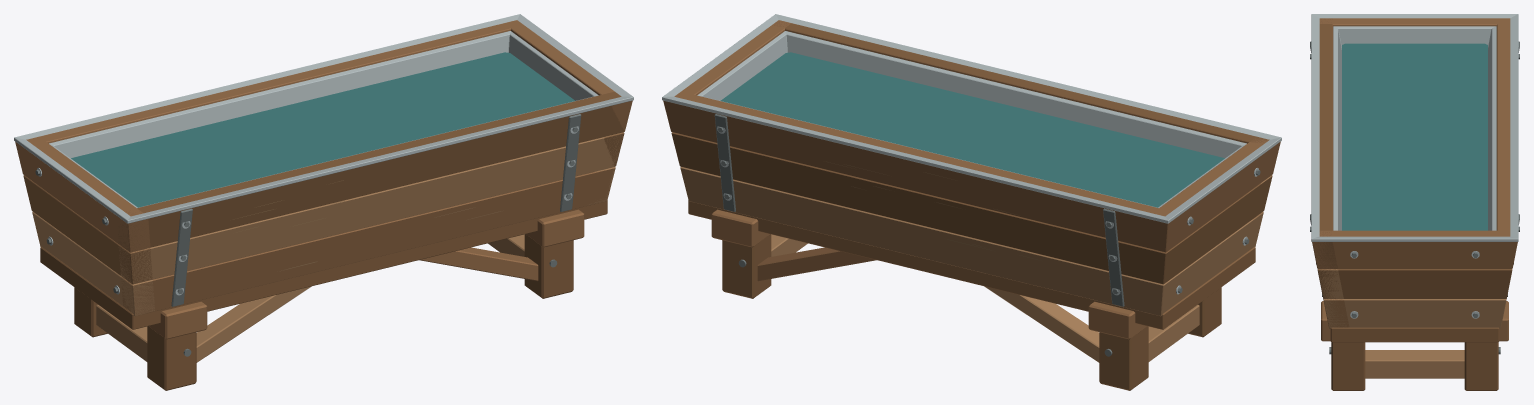
3 views of the same model, side by side, from view 1: azimuth 30°, elevation 25°; view 2: azimuth 150°, elevation 25°; view 3: azimuth 270°, elevation 25° (orthographic). The views are drawn at different scales.
Visible parts, largest first — view 1: Water full to empty, Folded galvanized liner and protective lip, Long side timber course.004, Long side timber course.002, Long side timber course, Solid timber basin bottom, Long side timber course.005, Fitted end timber course.004, Fitted end timber course.002, Fitted end timber course, Square timber leg, Diagonal long frame brace (+10 smaller); view 2: Water full to empty, Folded galvanized liner and protective lip, Long side timber course.005, Long side timber course.003, Long side timber course.001, Solid timber basin bottom, Fitted end timber course.004, Long side timber course.004, Fitted end timber course.002, Fitted end timber course, Square timber leg.001, Diagonal long frame brace.002 (+11 smaller); view 3: Water full to empty, Folded galvanized liner and protective lip, Fitted end timber course.005, Fitted end timber course.003, Fitted end timber course.001, Long side timber course.004, Long side timber course.005, Lower cross rail.001, Solid timber basin bottom, Square timber leg.002, Square timber leg.003, Fitted end timber course.004 (+5 smaller).
Boxes of the visible parts, <box> form: Water full to empty: <box>71,52,575,207</box>; Folded galvanized liner and protective lip: <box>14,14,633,223</box>; Long side timber course.004: <box>118,91,632,251</box>; Long side timber course.002: <box>118,132,623,283</box>; Long side timber course: <box>121,167,615,315</box>; Solid timber basin bottom: <box>40,200,607,329</box>; Long side timber course.005: <box>15,21,521,181</box>; Fitted end timber course.004: <box>15,137,150,252</box>; Fitted end timber course.002: <box>23,175,152,284</box>; Fitted end timber course: <box>32,212,154,316</box>; Square timber leg: <box>147,326,196,390</box>; Diagonal long frame brace: <box>196,286,311,362</box>; Water full to empty: <box>720,52,1224,207</box>; Folded galvanized liner and protective lip: <box>662,14,1281,223</box>; Long side timber course.005: <box>663,91,1179,251</box>; Long side timber course.003: <box>672,132,1177,284</box>; Long side timber course.001: <box>681,167,1174,315</box>; Solid timber basin bottom: <box>688,200,1255,329</box>; Fitted end timber course.004: <box>1145,138,1280,252</box>; Long side timber course.004: <box>772,20,1273,169</box>; Fitted end timber course.002: <box>1144,175,1272,284</box>; Fitted end timber course: <box>1141,212,1263,316</box>; Square timber leg.001: <box>1099,326,1148,390</box>; Diagonal long frame brace.002: <box>984,286,1099,362</box>; Water full to empty: <box>1342,43,1487,230</box>; Folded galvanized liner and protective lip: <box>1311,14,1518,241</box>; Fitted end timber course.005: <box>1312,230,1517,268</box>; Fitted end timber course.003: <box>1317,269,1512,298</box>; Fitted end timber course.001: <box>1323,299,1506,328</box>; Long side timber course.004: <box>1313,18,1337,268</box>; Long side timber course.005: <box>1492,18,1516,268</box>; Lower cross rail.001: <box>1365,350,1464,378</box>; Solid timber basin bottom: <box>1330,327,1499,342</box>; Square timber leg.002: <box>1331,342,1365,390</box>; Square timber leg.003: <box>1464,342,1498,390</box>; Fitted end timber course.004: <box>1319,18,1510,26</box>.
Size of the model in its own units: 1.8 by 0.6498 by 0.7089.
